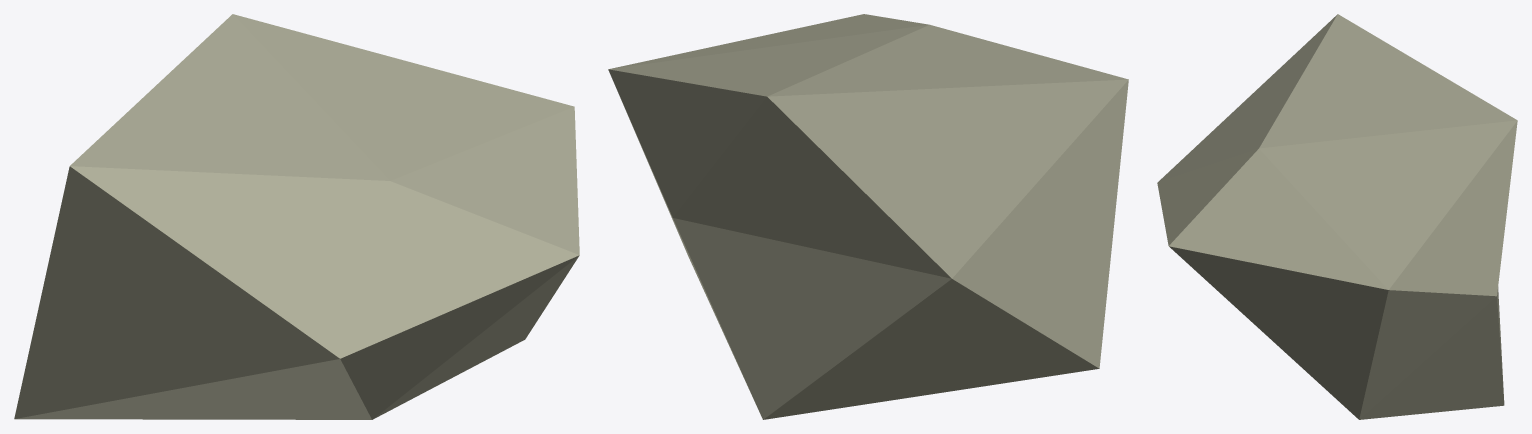
File: rock.glb
3 views of the same model, side by side, from view 1: azimuth 30°, elevation 25°; view 2: azimuth 150°, elevation 25°; view 3: azimuth 270°, elevation 25° (orthographic). The views are drawn at different scales.
Parts seen in each view (by area): view 1: Rock; view 2: Rock; view 3: Rock.
Part boxes in pixels (x1,y1,x2,y2): Rock: [14, 14, 579, 419]; Rock: [608, 14, 1128, 419]; Rock: [1157, 14, 1517, 419].
Bounding box in the file's own units: 0.5848 × 0.3717 × 0.4312.
